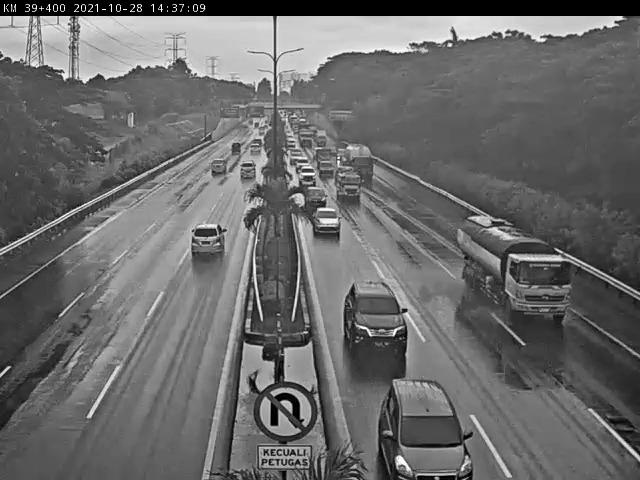big truck: (453, 211, 575, 329), (339, 140, 381, 185)
car: (372, 371, 479, 480), (339, 276, 414, 358), (188, 220, 229, 257), (306, 204, 345, 238), (303, 184, 329, 207), (297, 164, 318, 186), (239, 159, 258, 181), (294, 156, 312, 174), (210, 157, 228, 174), (319, 161, 335, 179), (230, 139, 244, 155), (248, 143, 262, 156)
